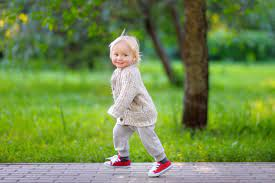child: (96, 29, 172, 176)
